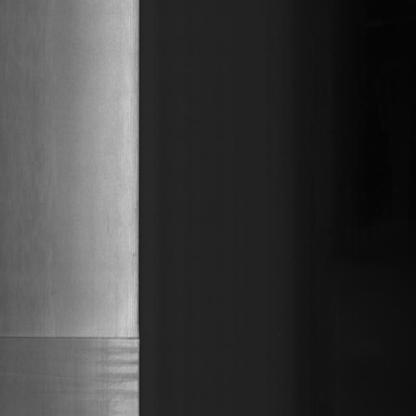welding_line: (2, 328, 135, 349)
